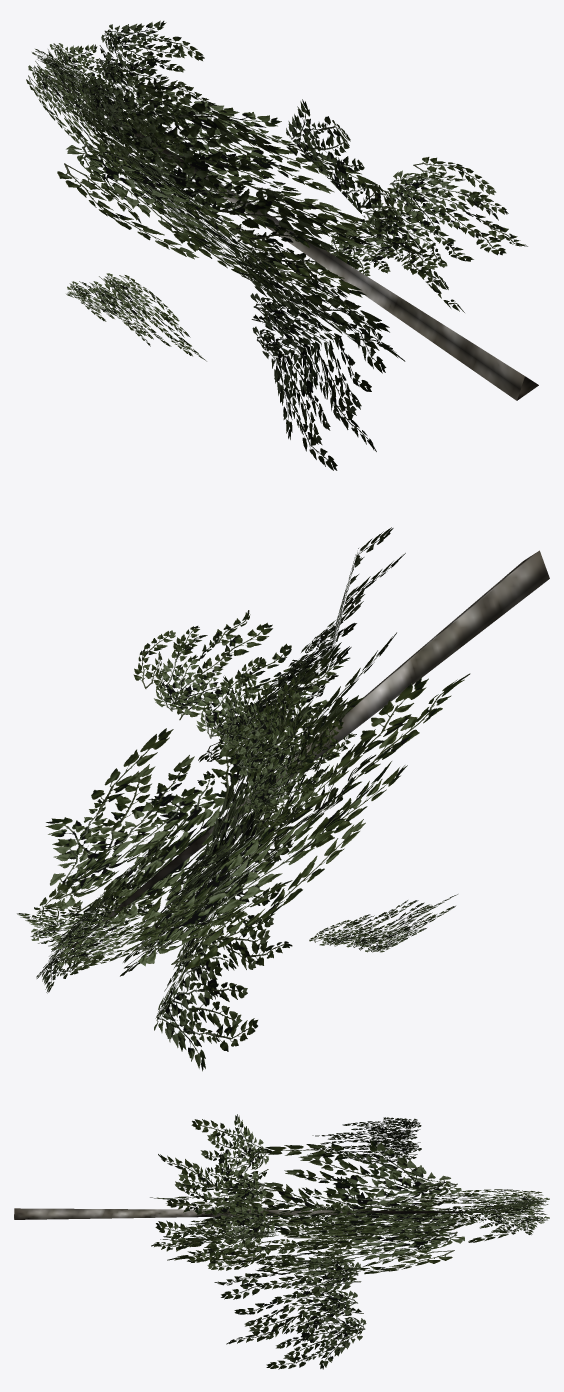
Rendered from MEP_Birch_01_f_LOD_03.fbx.
3 renders of one model, top to bottom at view 1: azimuth 30°, elevation 25°; view 2: azimuth 150°, elevation 25°; view 3: azimuth 270°, elevation 25°, orthographic. The views are drawn at different scales.
Visible parts, largest first — view 1: MEP_Birch_01_f_LOD_03; view 2: MEP_Birch_01_f_LOD_03; view 3: MEP_Birch_01_f_LOD_03.
Boxes of the visible parts, bbox=[...] form: MEP_Birch_01_f_LOD_03: bbox=[26, 20, 538, 470]; MEP_Birch_01_f_LOD_03: bbox=[17, 527, 549, 1071]; MEP_Birch_01_f_LOD_03: bbox=[14, 1114, 549, 1369].
Bounding box in the file's own units: 8.75 × 10.82 × 20.68.
